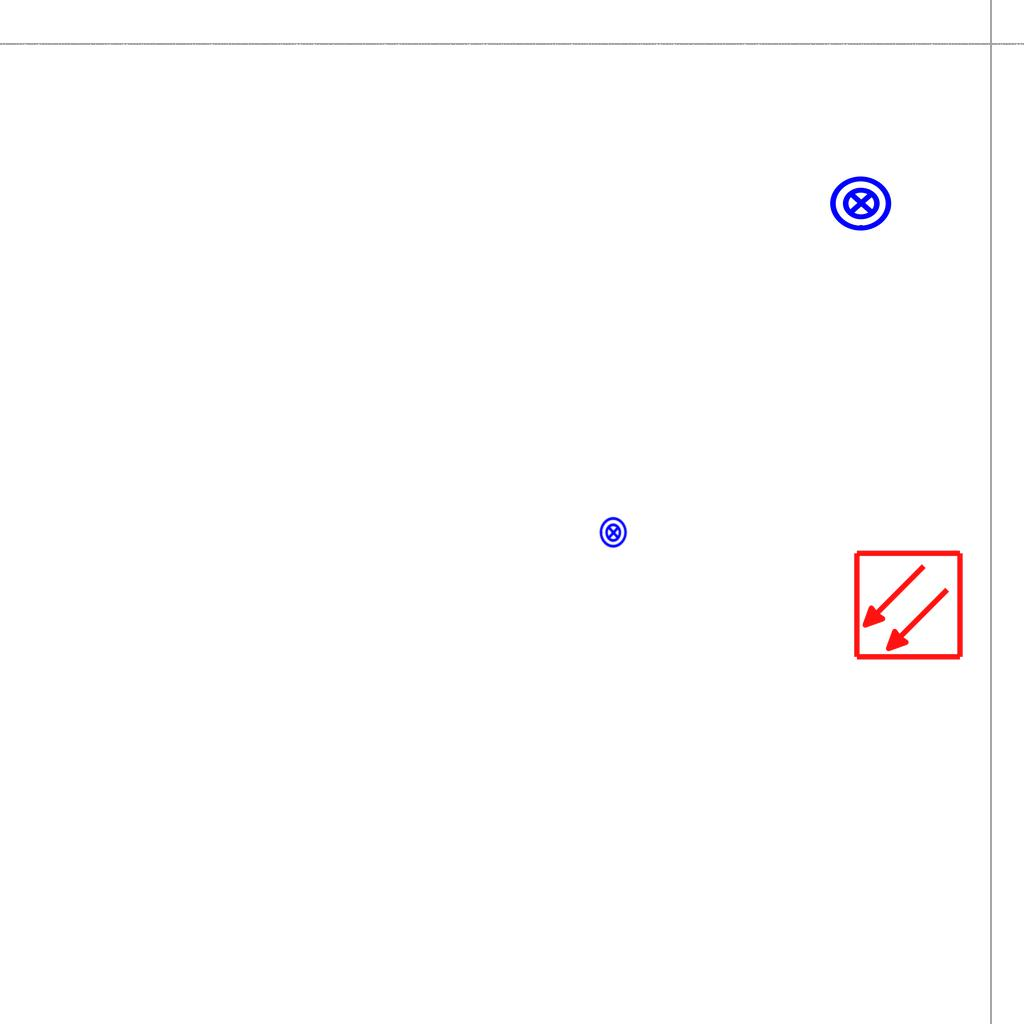RMO_Rauchmelder_optischer: (852, 549, 965, 662)
Taster_beleuchtet: (828, 170, 894, 236), (597, 516, 630, 549)
